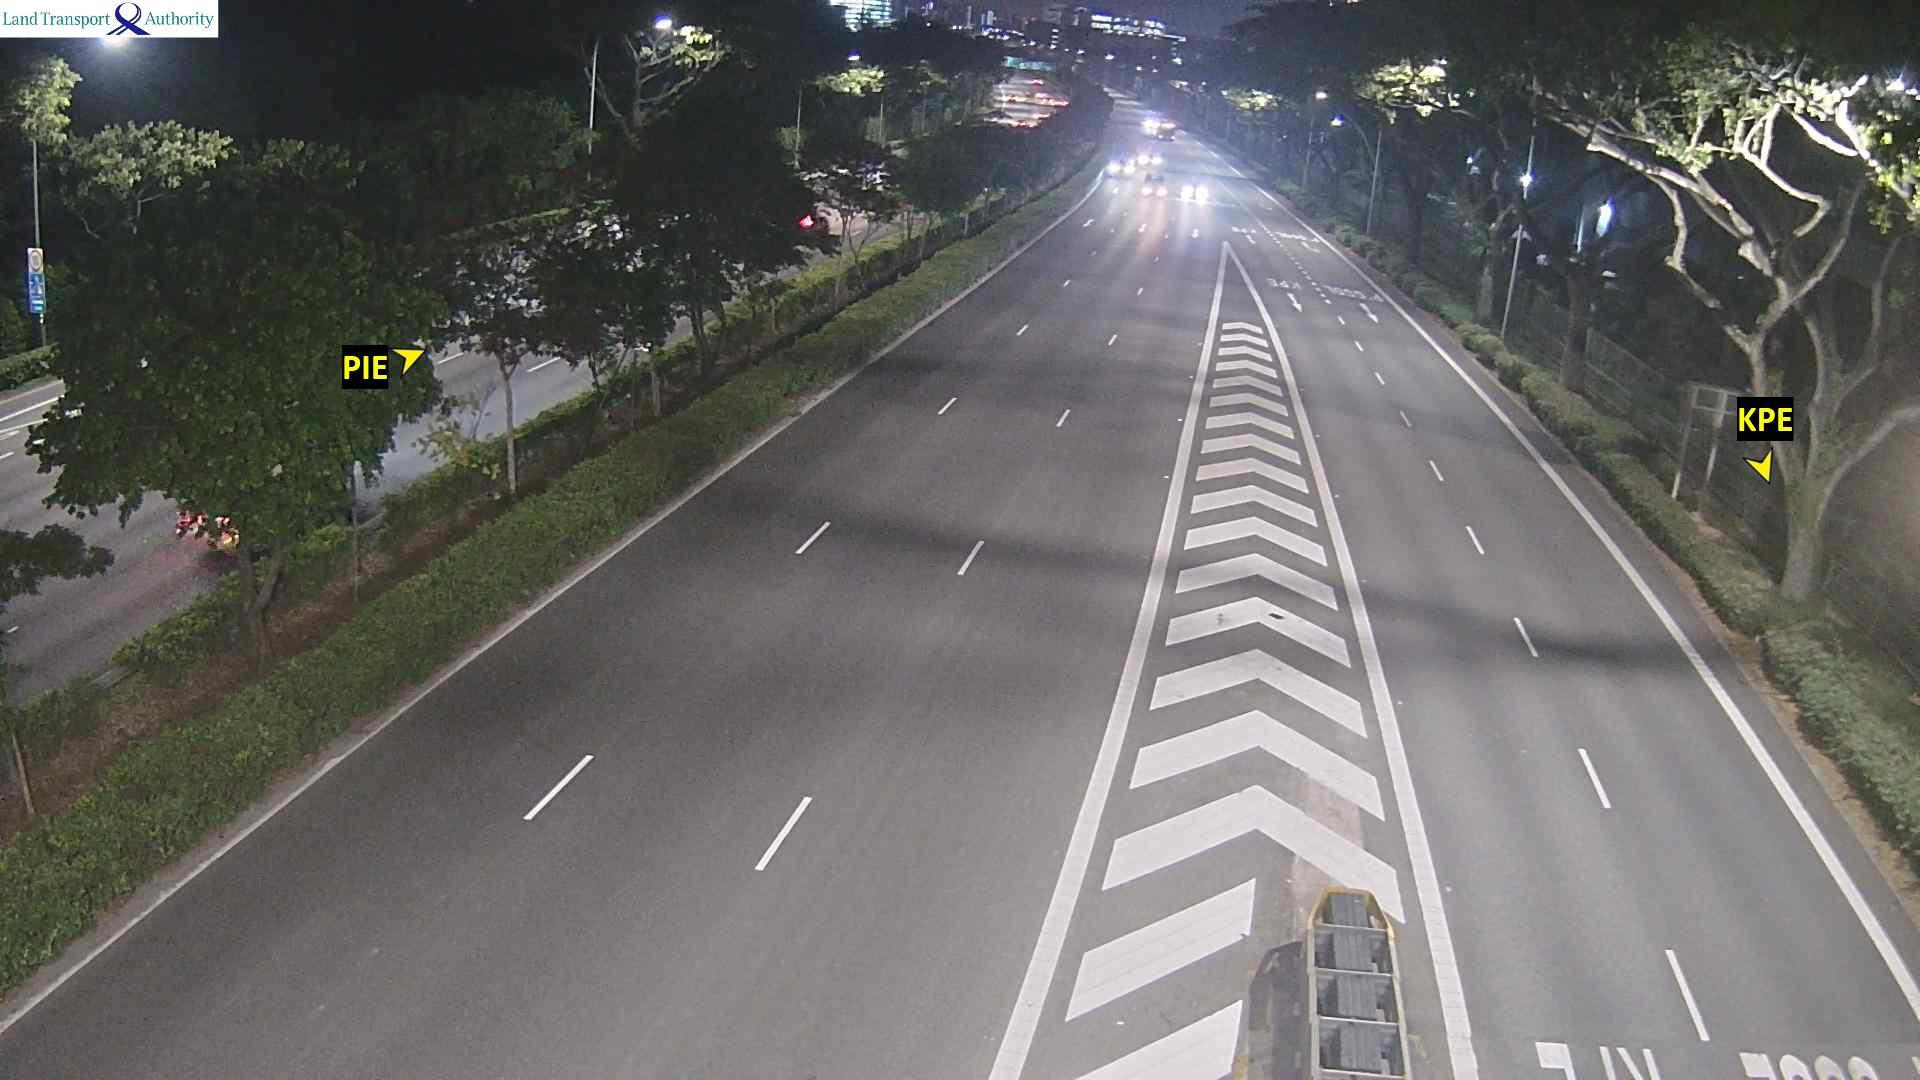cars: (1104, 142, 1164, 179), (1139, 109, 1176, 138), (1178, 179, 1211, 204), (1133, 145, 1163, 171), (1104, 152, 1134, 177), (1139, 170, 1167, 196)
trucks: (1228, 884, 1414, 1077)
